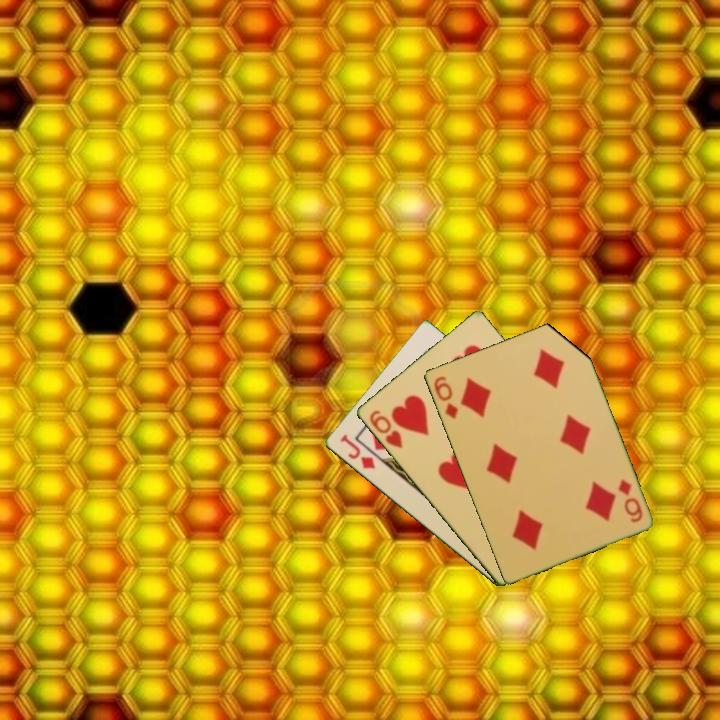6d: (614, 476, 645, 525), (430, 372, 460, 421)
6h: (365, 406, 405, 451)
Jd: (336, 431, 378, 472)
